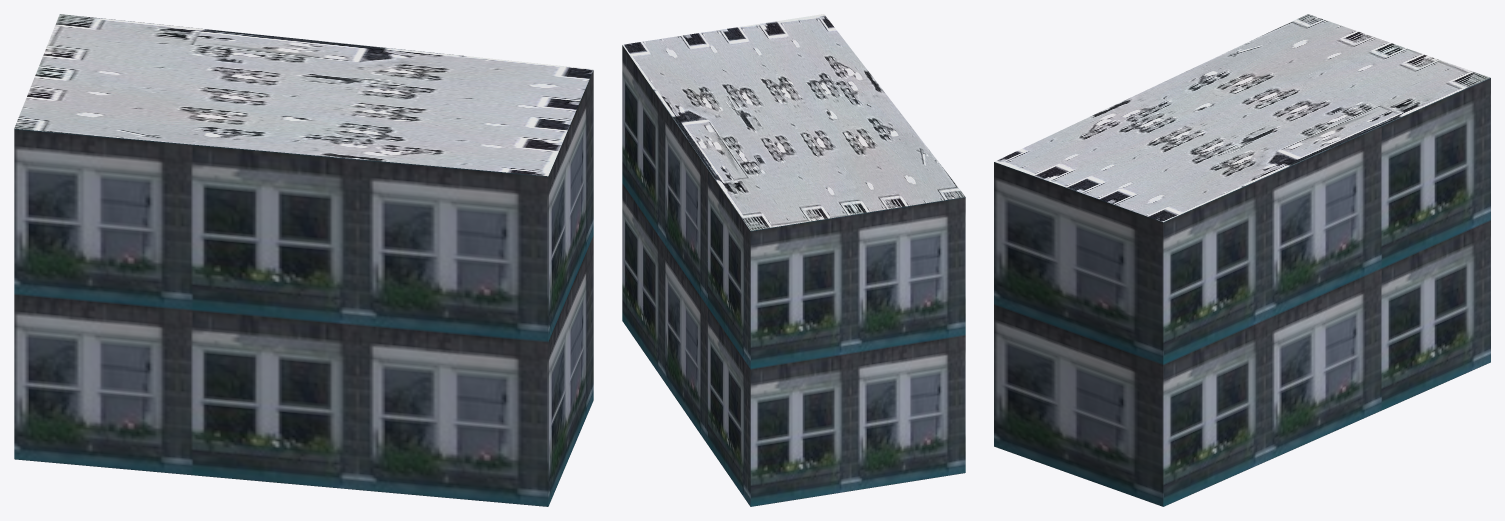
Rendered from ResTex__1172.fbx.
3 renders of one model, left to right at view 1: azimuth 30°, elevation 25°; view 2: azimuth 150°, elevation 25°; view 3: azimuth 270°, elevation 25°, orthographic. The views are drawn at different scales.
Visible parts, largest first — view 1: CityEngineMaterial_11_m, CityEngineMaterial_8_m; view 2: CityEngineMaterial_11_m, CityEngineMaterial_8_m; view 3: CityEngineMaterial_11_m, CityEngineMaterial_8_m.
Part boxes in pixels (box(x1,y1,x2,y2)): CityEngineMaterial_11_m: box(14, 70, 593, 506); CityEngineMaterial_8_m: box(14, 14, 593, 176); CityEngineMaterial_11_m: box(622, 45, 965, 506); CityEngineMaterial_8_m: box(622, 14, 965, 230); CityEngineMaterial_11_m: box(994, 78, 1490, 506); CityEngineMaterial_8_m: box(994, 14, 1490, 222).
Bounding box in the file's own units: 9.41 × 6 × 9.49.
2 materials, 2 textured.
